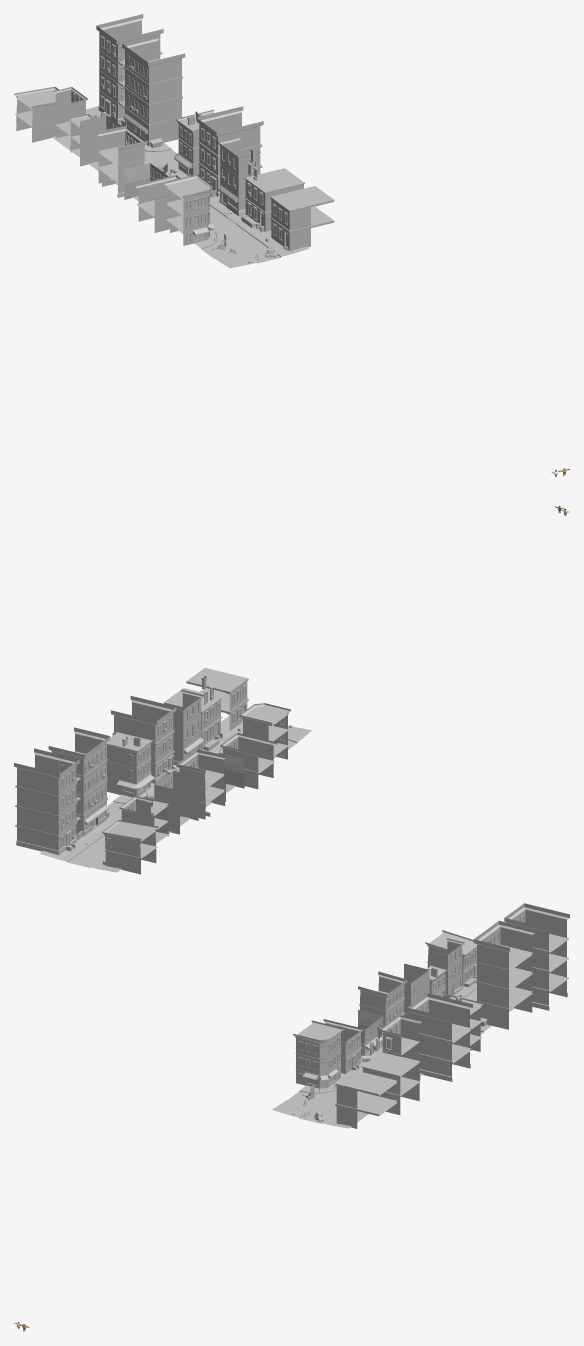
File: menu platforms.FBX
3 views of the same model, one above another, from view 1: azimuth 30°, elevation 25°; view 2: azimuth 150°, elevation 25°; view 3: azimuth 330°, elevation 25° (orthographic). The views are drawn at different scales.
Visible parts, largest first — view 1: menu_platform_01, menu_platform_02; view 2: menu_platform_02, menu_platform_01; view 3: menu_platform_01, menu_platform_02.
Part boxes in pixels (box(x1,y1,x2,y2)): menu_platform_01: box(124, 106, 334, 267); menu_platform_02: box(14, 14, 214, 197); menu_platform_02: box(14, 727, 225, 874); menu_platform_01: box(111, 668, 311, 802); menu_platform_01: box(272, 993, 472, 1128); menu_platform_02: box(358, 903, 569, 1051).
Size of the model in its own units: 1.58 by 1.01 by 10.35.
